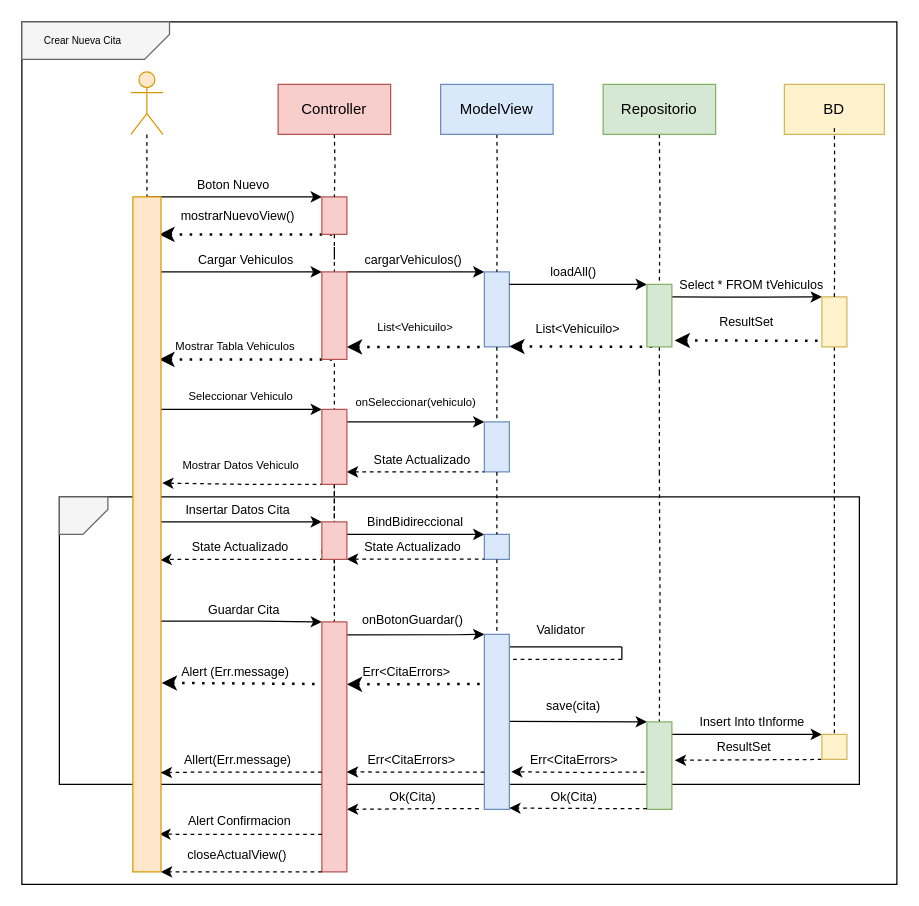
The diagram is 919 pixels wide and 906 high, and some of its shapes have lost their labels. The shapes that lost their labels are listed below. From the top down, each one's centre as x and y in pixels, then its label:
(x=146, y=102): <Trabajador>
(x=83, y=515): Loop
